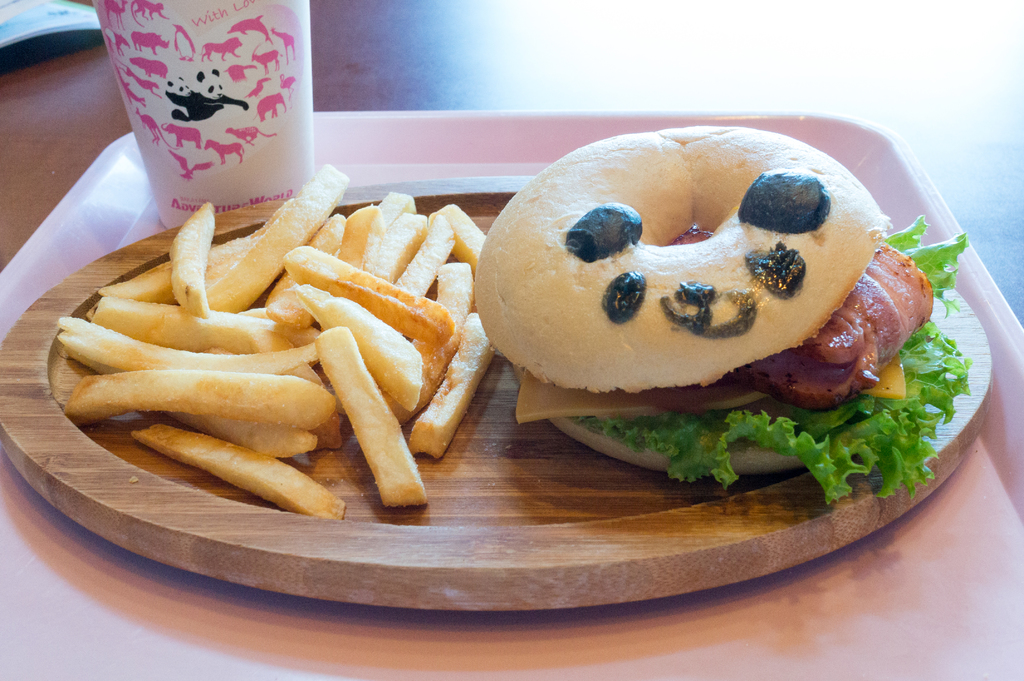Hamburger: (473, 126, 974, 502)
